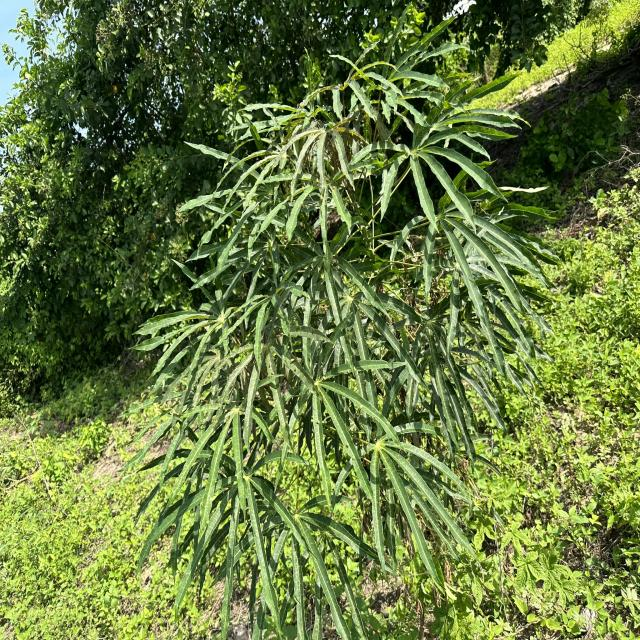Maleza: (16, 10, 135, 375), (4, 378, 132, 640), (0, 0, 290, 100), (506, 439, 640, 640), (561, 184, 640, 479), (535, 8, 636, 231)
Mosca: (264, 360, 281, 382), (499, 292, 508, 309), (289, 364, 300, 375), (311, 419, 327, 426), (343, 440, 349, 456)
